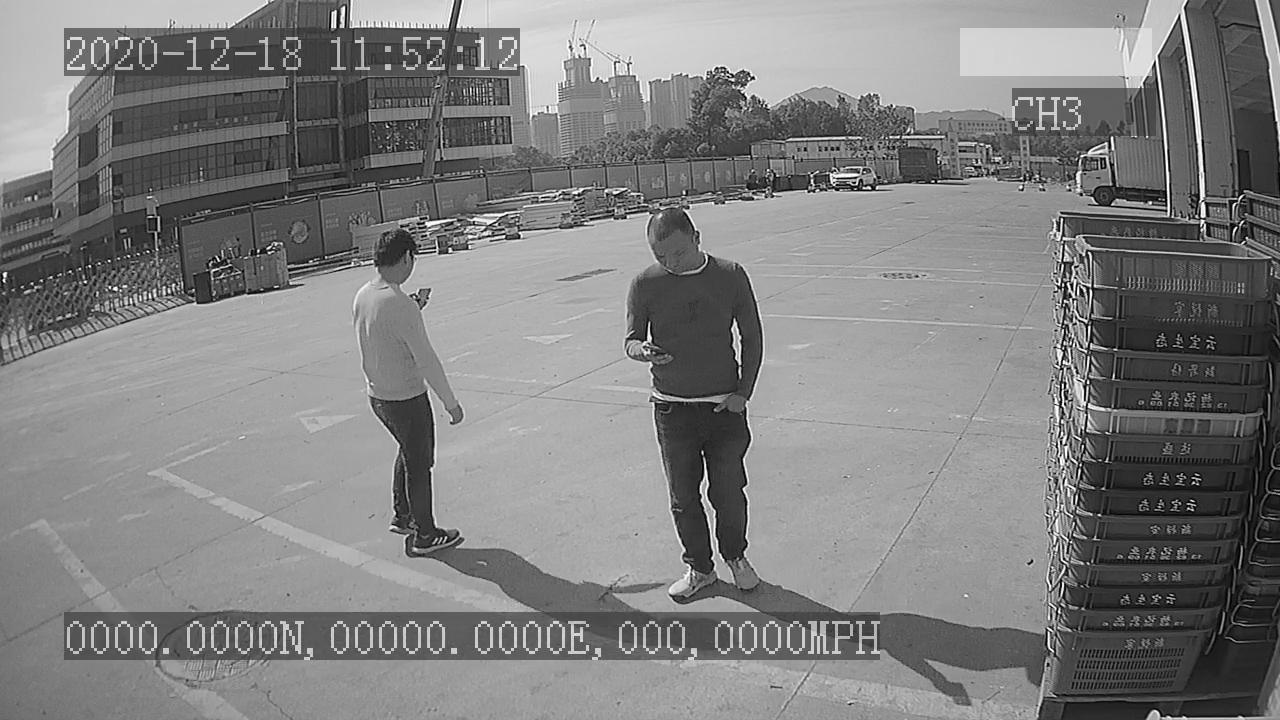person: (618, 201, 767, 606), (340, 219, 470, 567)
